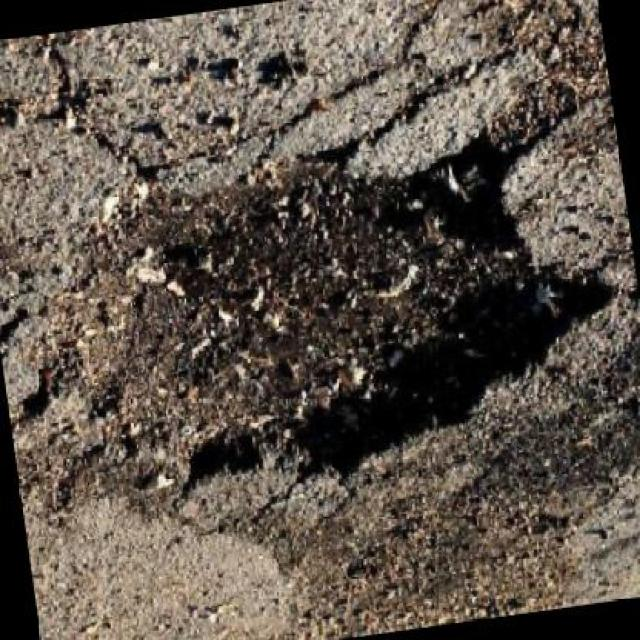pothole: (2, 111, 640, 528)
